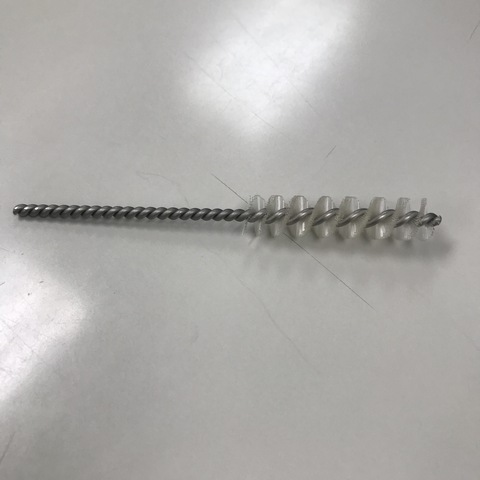Twist Brush-B: (5, 184, 451, 245)
